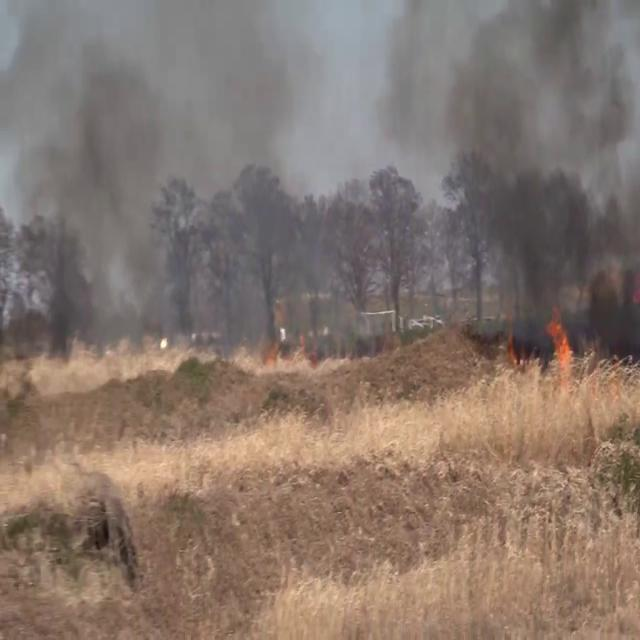Fire: (544, 304, 574, 372)
Smoke: (0, 0, 639, 367)
